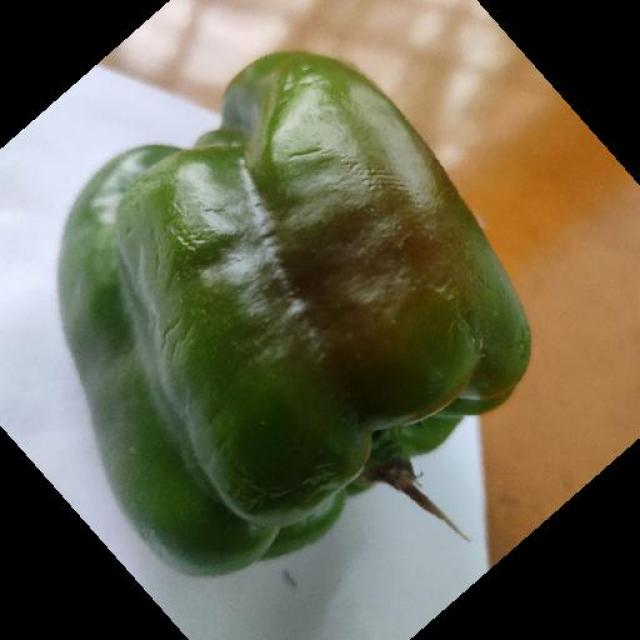Stale_Capsicum: (74, 87, 596, 525)
